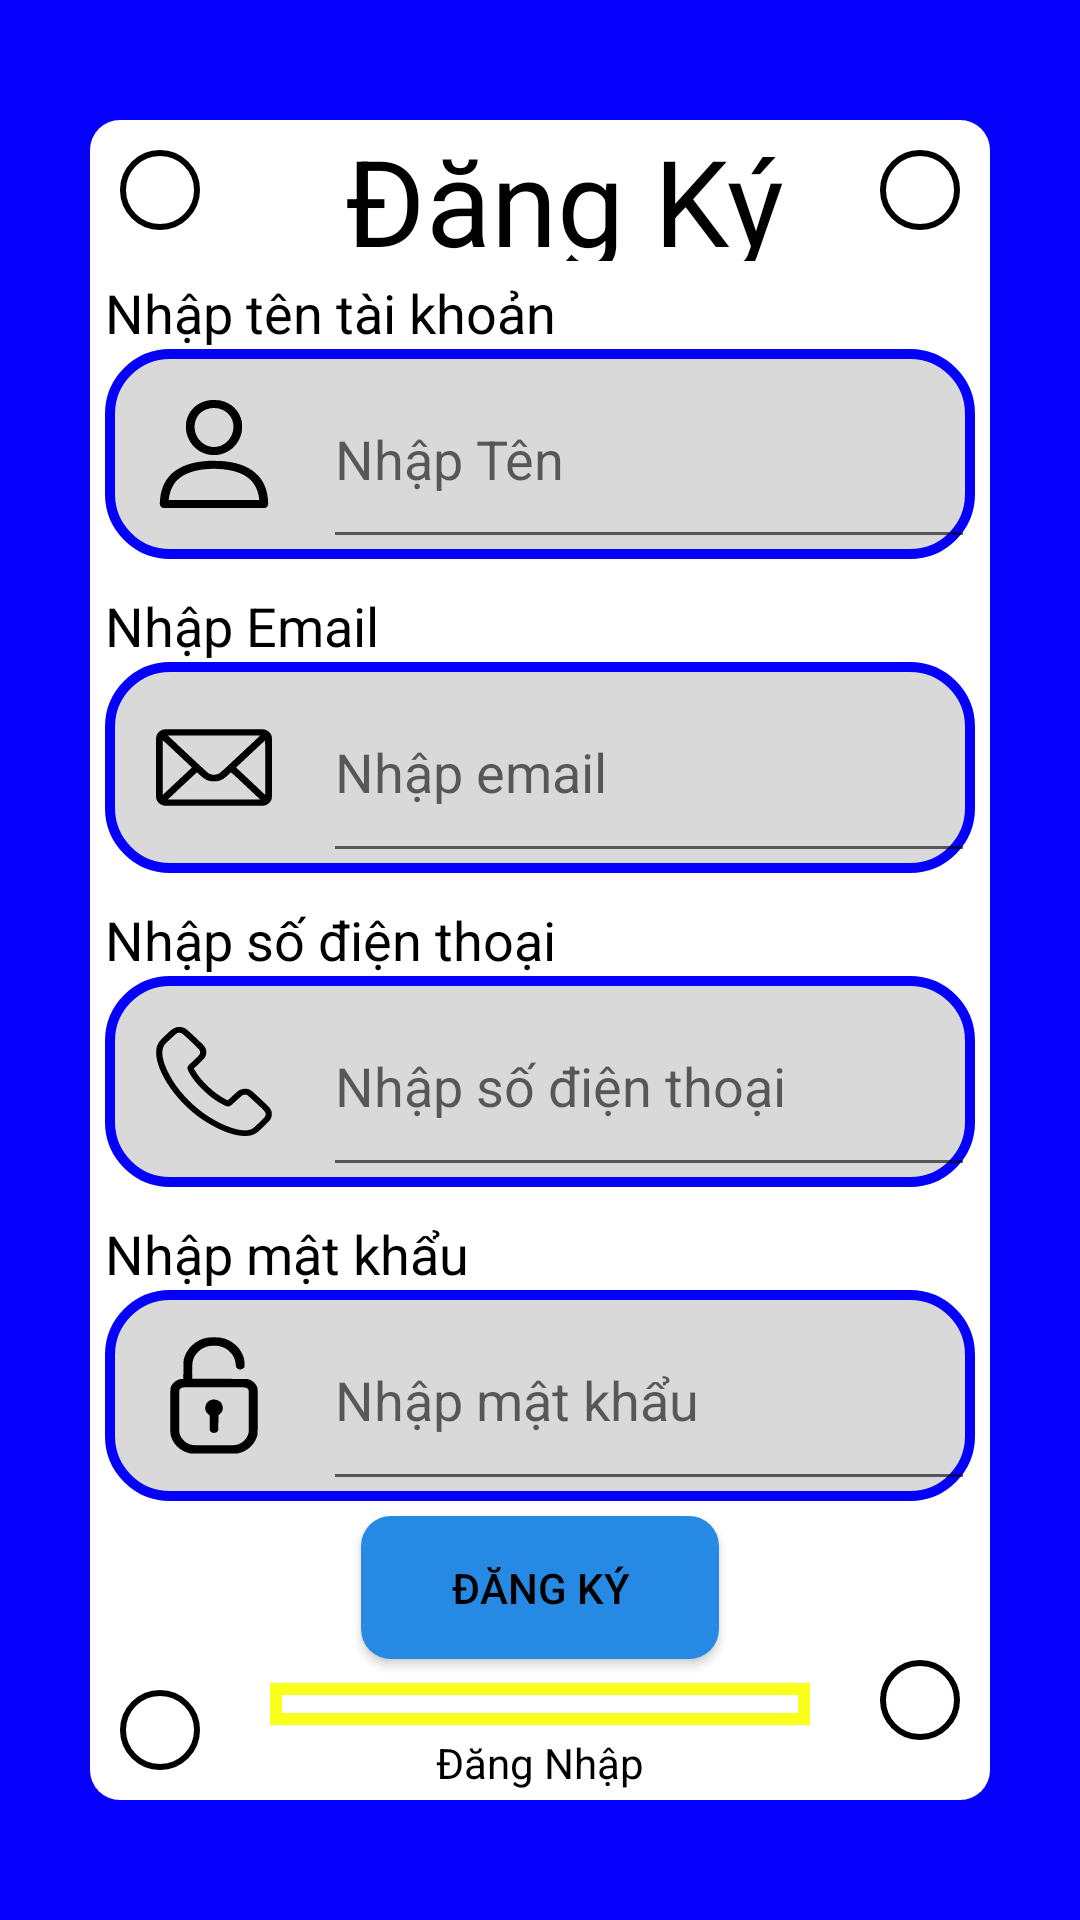

Named icons in this screenshot (1080w x 1920h) and their bounding boxes, (x1, y1, x2, y2):
password: (170, 1337, 258, 1454)
telephone: (156, 1027, 272, 1136)
user: (159, 400, 269, 508)
